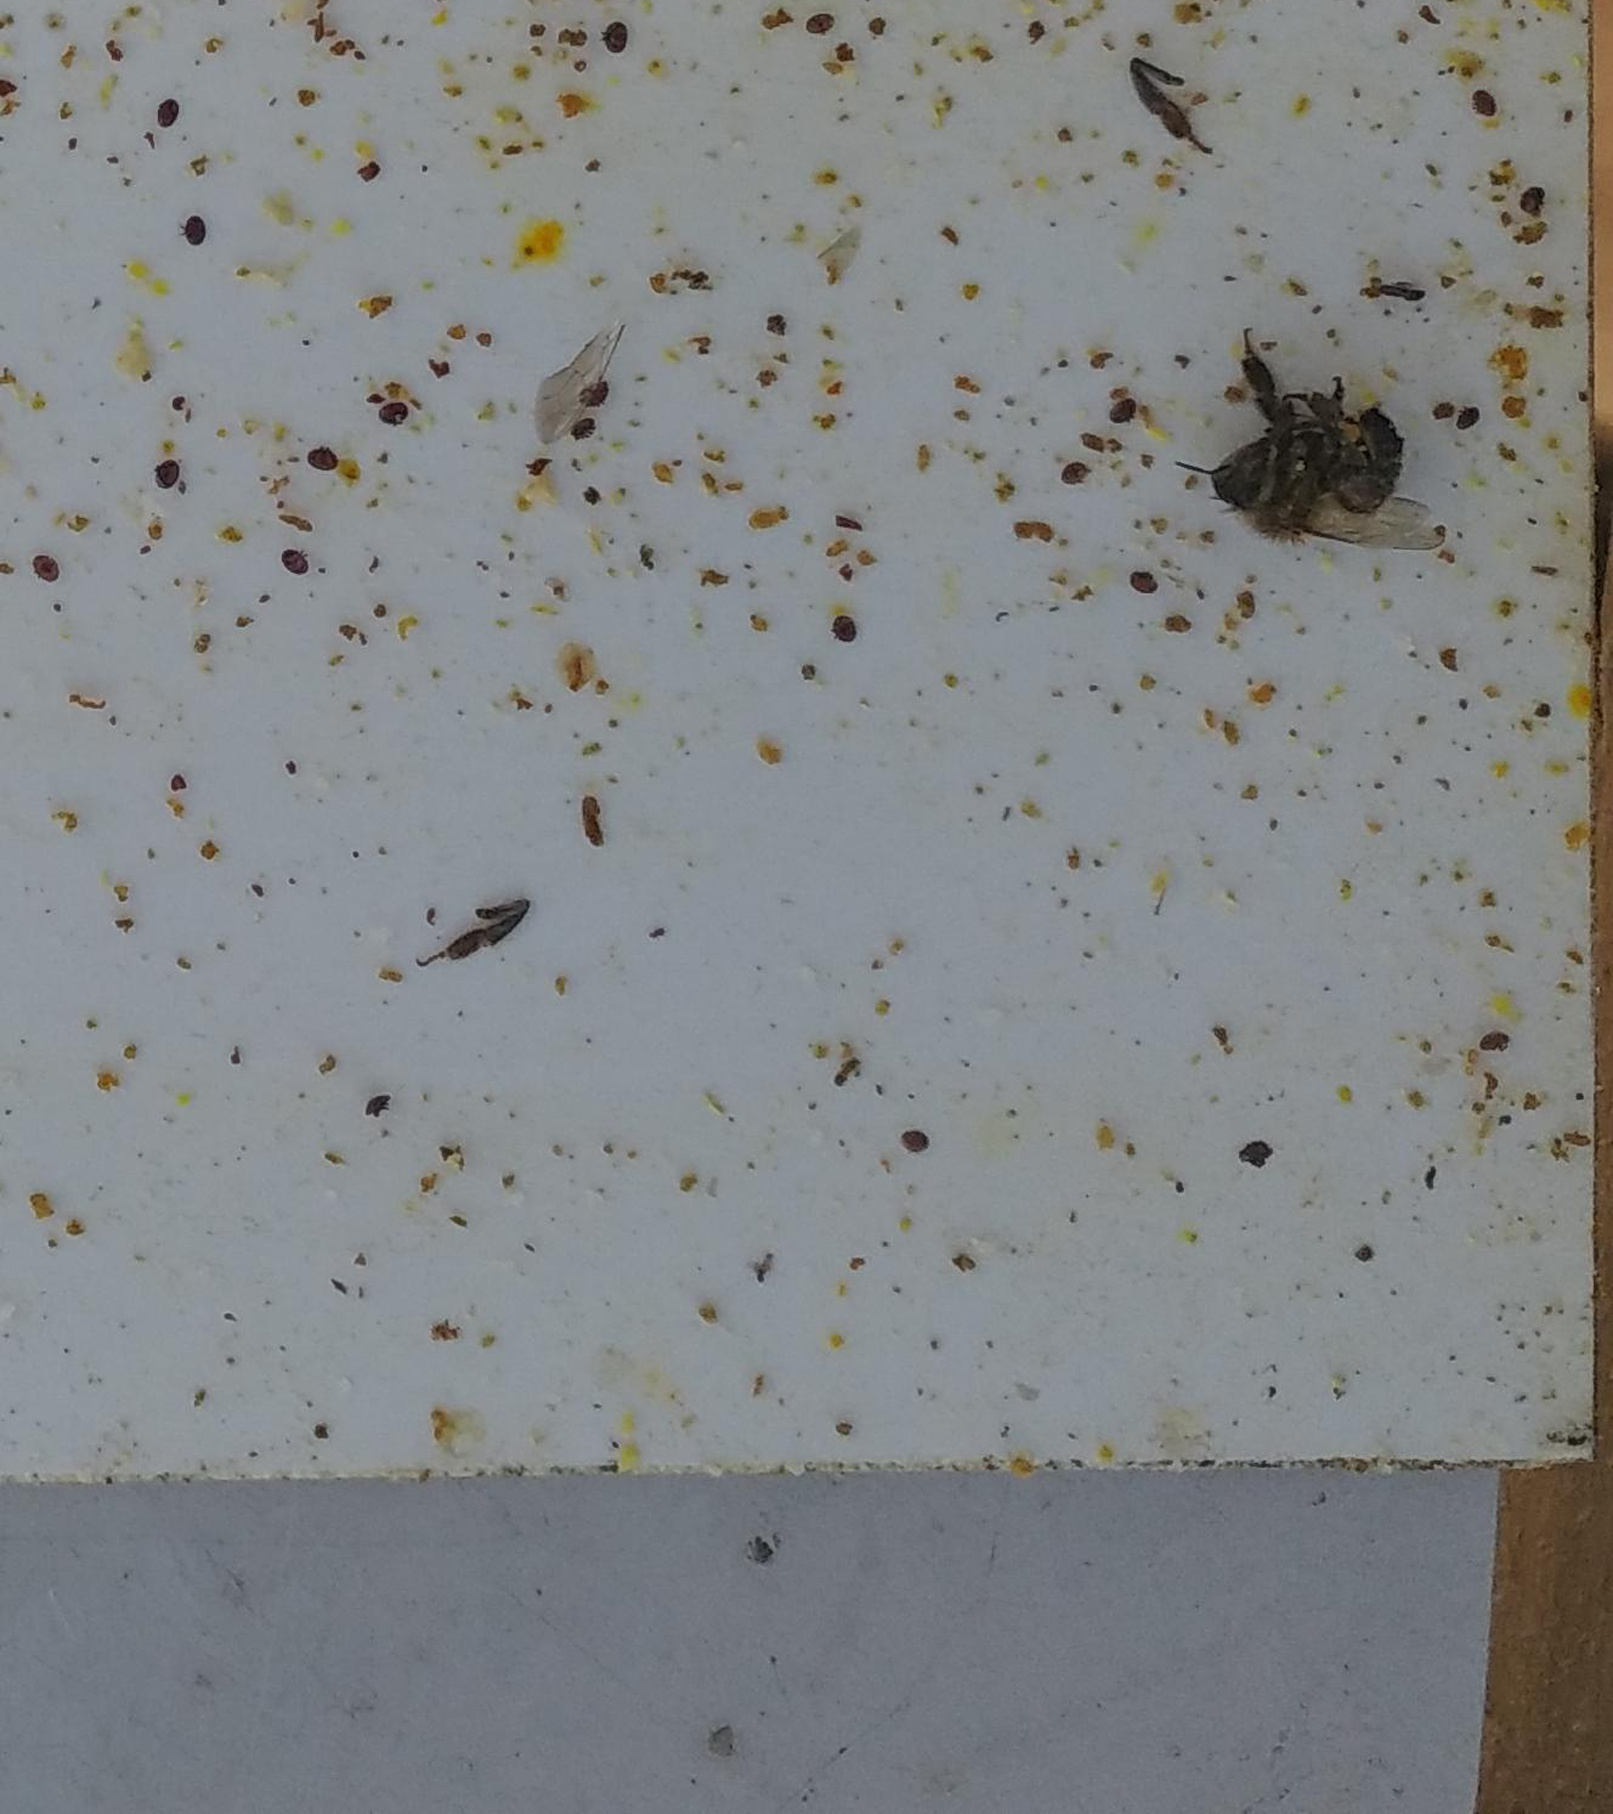Varroa: (561, 408, 601, 450), (575, 374, 617, 414), (1052, 452, 1093, 492), (824, 613, 859, 652), (1481, 1025, 1516, 1060), (1442, 405, 1478, 441), (300, 439, 335, 475), (22, 550, 58, 582), (596, 19, 631, 51), (279, 543, 311, 578), (151, 97, 185, 129), (363, 1087, 395, 1120), (149, 459, 181, 494), (901, 1126, 933, 1158), (803, 9, 835, 42), (181, 213, 212, 244), (1518, 185, 1548, 215), (1130, 570, 1158, 599), (378, 394, 406, 424), (1471, 90, 1499, 118), (1105, 395, 1133, 424)
